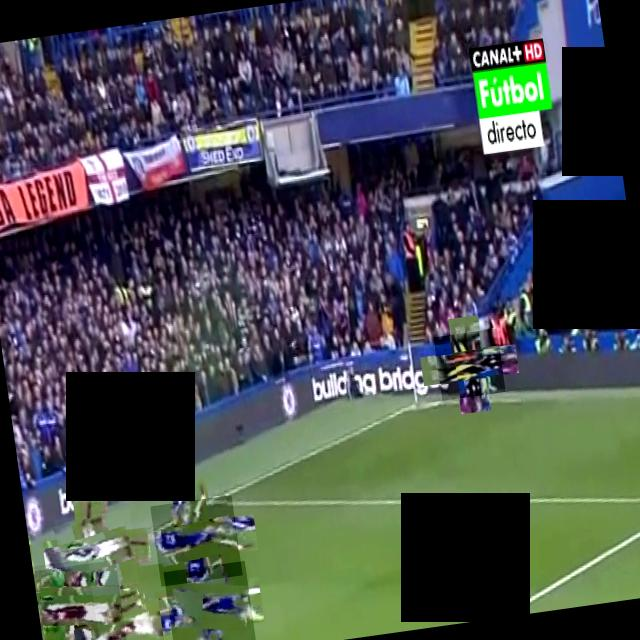goalkeeper: (31, 558, 98, 640)
referee: (432, 328, 504, 400)
soccer-player: (150, 494, 242, 586), (32, 559, 126, 640), (53, 508, 139, 594), (162, 560, 254, 640), (77, 587, 158, 640), (27, 534, 47, 640)
